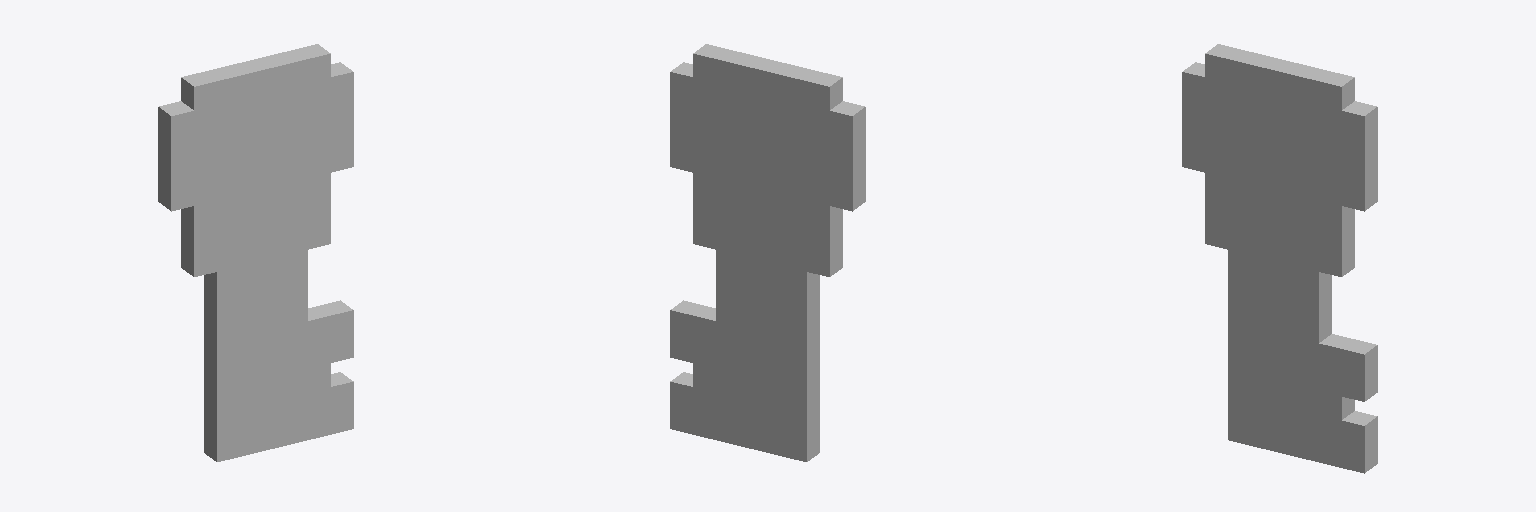
Rendered from trial_key.obj.
The picture shows the model from 3 angles: view 1: azimuth 30°, elevation 25°; view 2: azimuth 150°, elevation 25°; view 3: azimuth 330°, elevation 25°; orthographic projection.
Parts seen in each view (by area): view 1: TrialKey; view 2: TrialKey; view 3: TrialKey.
Boxes of the visible parts, <box> form: TrialKey: <box>158,44,353,461</box>; TrialKey: <box>670,44,865,461</box>; TrialKey: <box>1182,44,1377,473</box>.
Size of the model in its own units: 16 by 32 by 2.